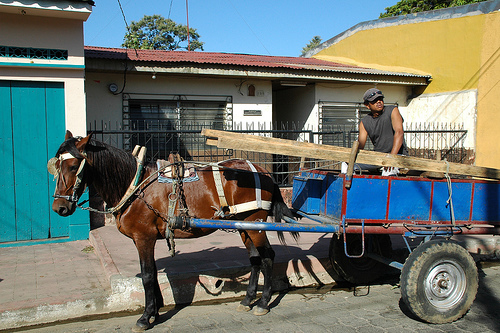horse: (47, 131, 299, 330)
